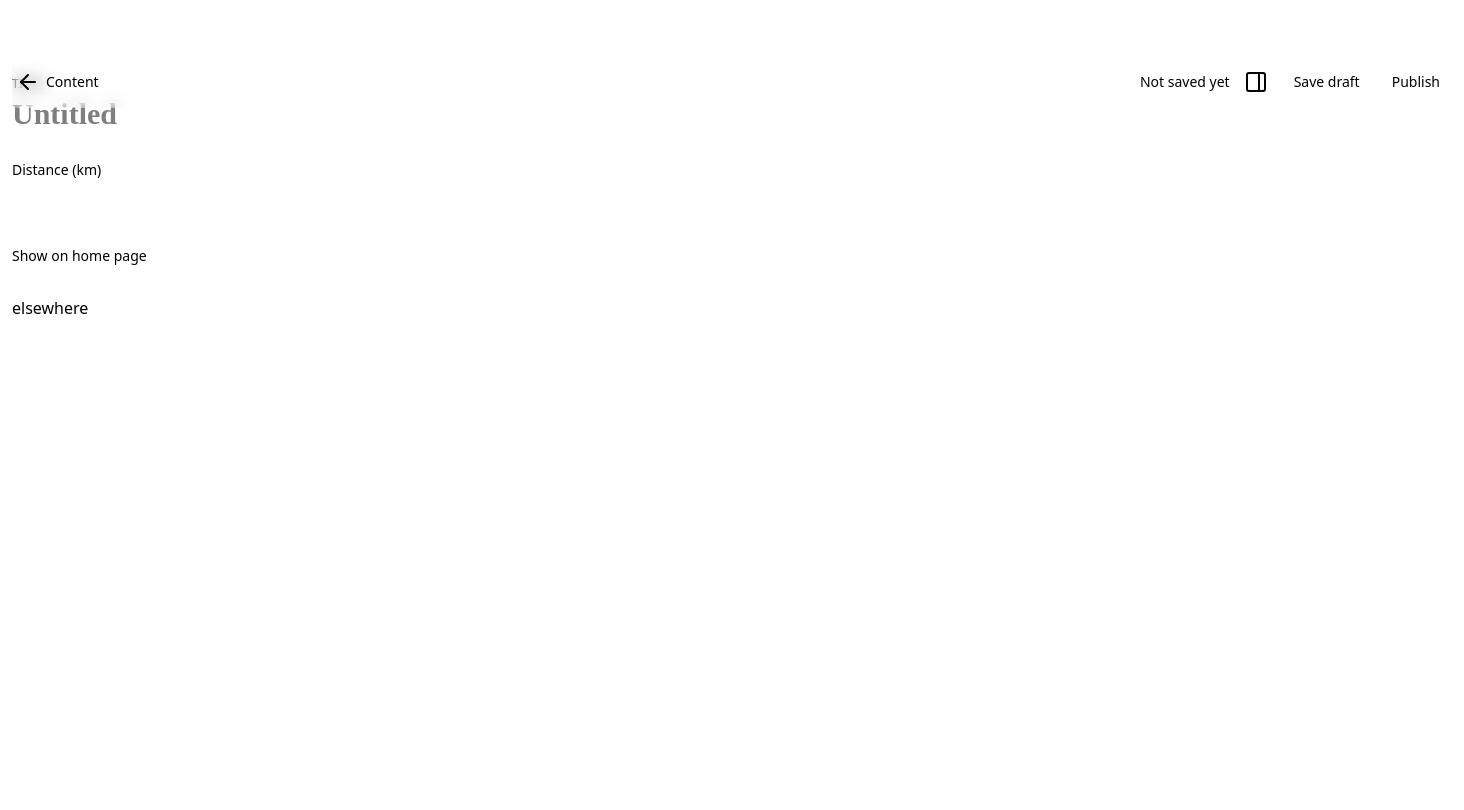
Test case: Publish on a new entry really publishes it
This screenshot has width=1464, height=810.
Step 1. Type "Hi" into the field labelled "Title" → {"x": 732, "y": 116}, box x1=12 y1=96 x2=1452 y2=136
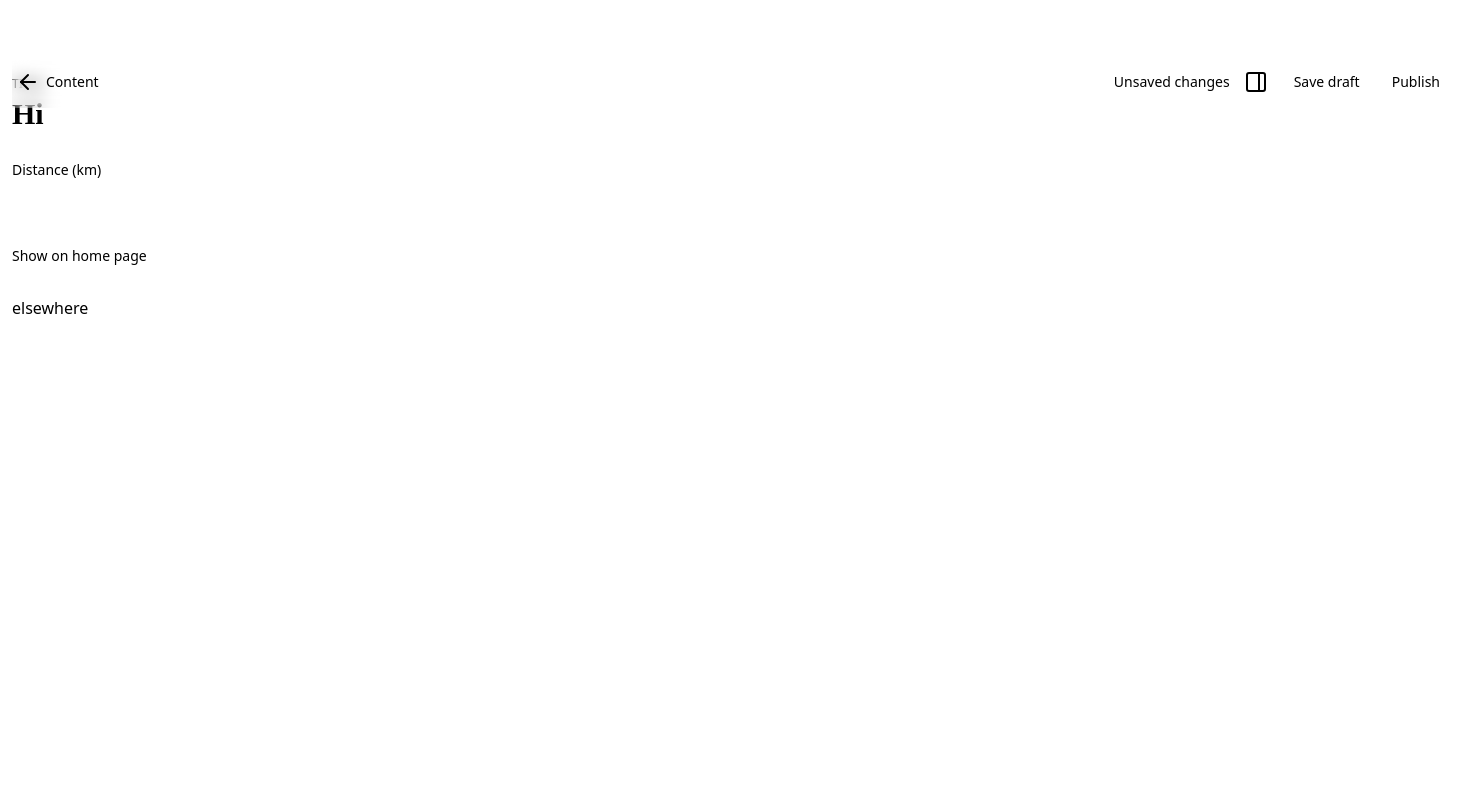
Step 2. Click the button "Publish" → {"x": 1416, "y": 82}, box x1=1380 y1=66 x2=1452 y2=98
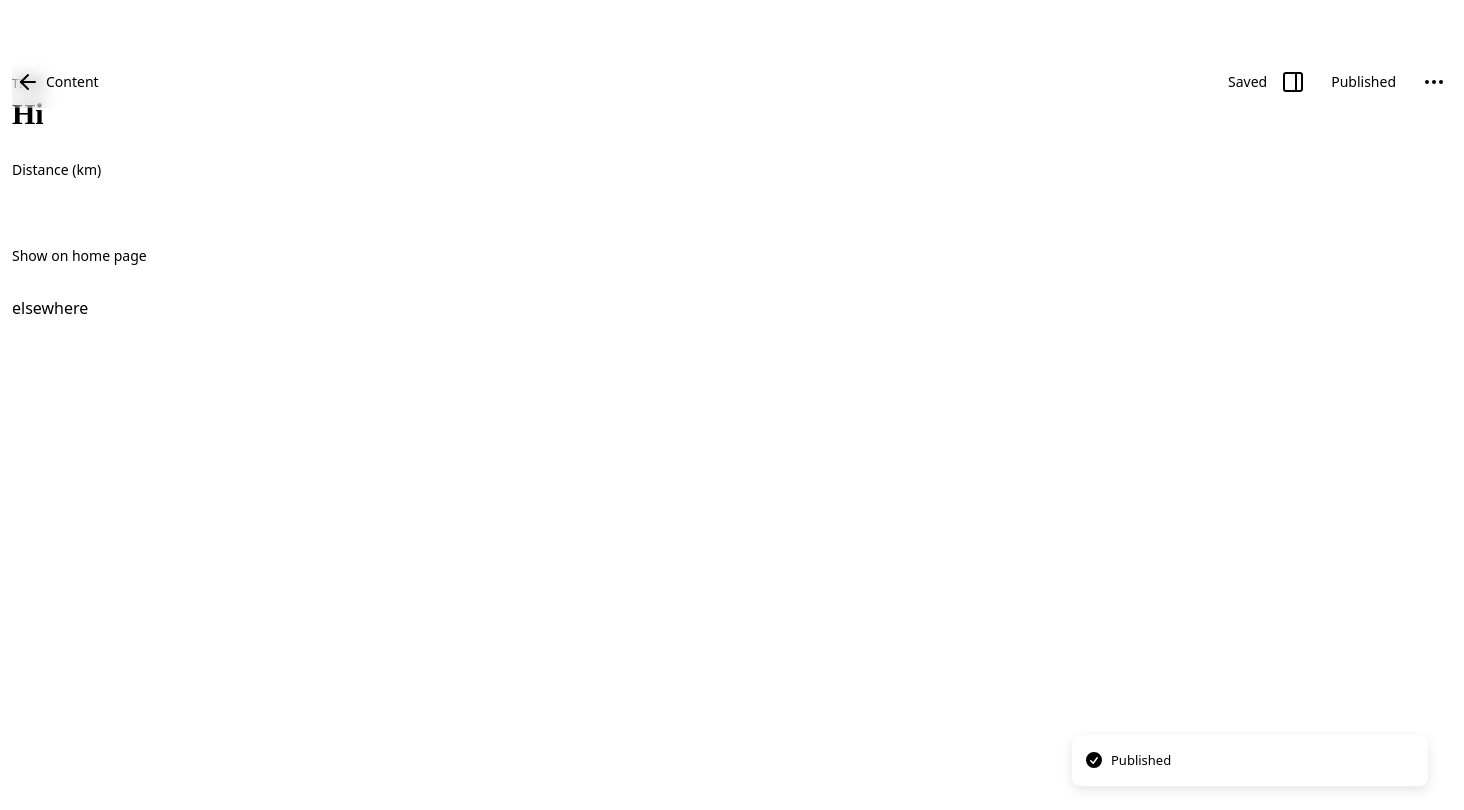
Check: the button "Published" is disabled, box x1=1319 y1=66 x2=1408 y2=98
